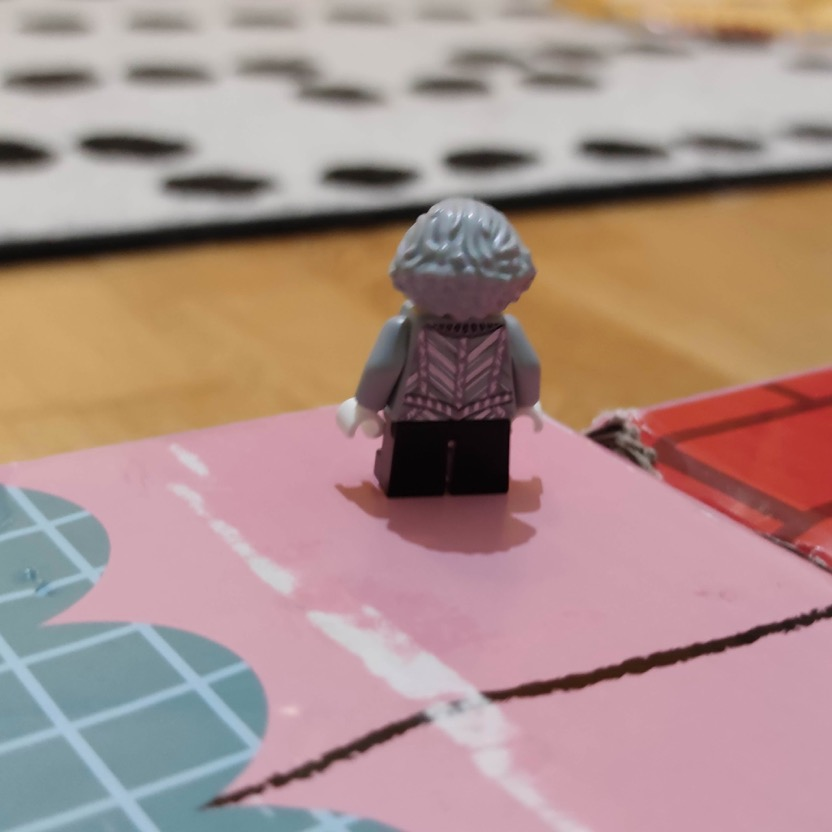lego: (336, 194, 549, 500)
